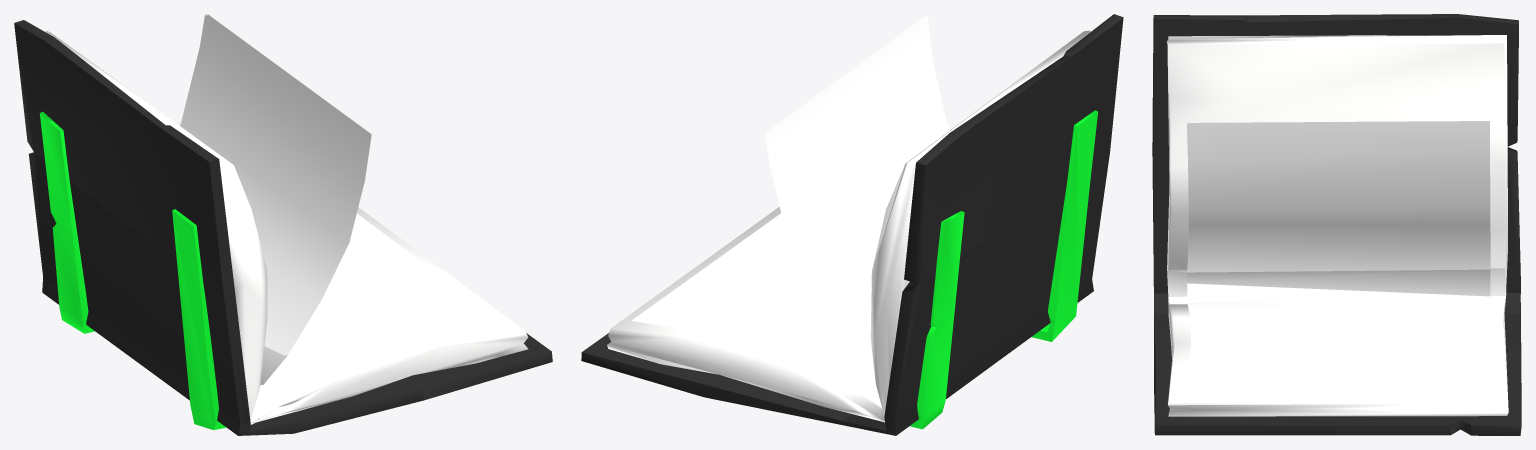
File: a2e56e5d-5014-42e8-9b44-367a33cfed03.glb
3 renders of one model, left to right at view 1: azimuth 30°, elevation 25°; view 2: azimuth 150°, elevation 25°; view 3: azimuth 270°, elevation 25°, orthographic. The views are drawn at different scales.
Parts seen in each view (by area): view 1: CyberPunkGuestBookFlipping.006; view 2: CyberPunkGuestBookFlipping.006; view 3: CyberPunkGuestBookFlipping.006.
Part boxes in pixels (box(x1,y1,x2,y2)): CyberPunkGuestBookFlipping.006: box(14, 14, 552, 435); CyberPunkGuestBookFlipping.006: box(581, 14, 1123, 435); CyberPunkGuestBookFlipping.006: box(1152, 14, 1521, 435).
Size of what is drawn, in the model's own units: 0.3266 by 0.2728 by 0.3243.
Materials: 2 (2 with a texture image).
